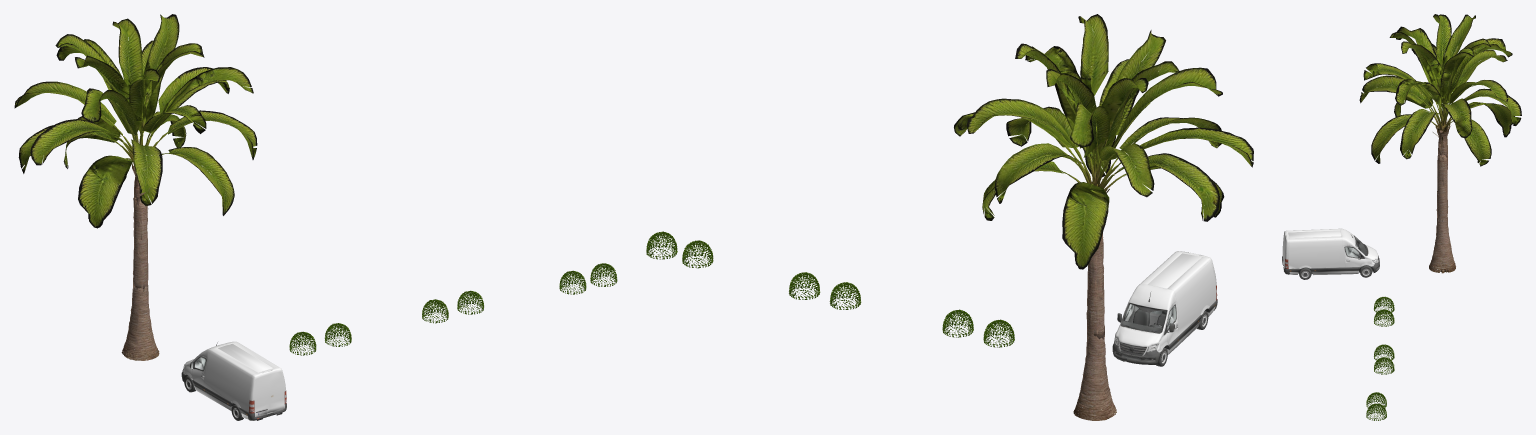
Rendered from building_refined_lod1.glb.
3 renders of one model, left to right at view 1: azimuth 30°, elevation 25°; view 2: azimuth 150°, elevation 25°; view 3: azimuth 270°, elevation 25°, orthographic. The views are drawn at different scales.
Visible parts, largest first — view 1: Preserved_tripo_node_40f33689-19e3-4f47-af31-3b40153ef03f__L, Preserved_tripo_node_2564325a-fb35-49d2-8a94-c82f8eb06e11__L; view 2: Preserved_tripo_node_40f33689-19e3-4f47-af31-3b40153ef03f__L, Preserved_tripo_node_2564325a-fb35-49d2-8a94-c82f8eb06e11__L, Preserved_tripo_node_ea4b5c3e-d929-4ee4-b03d-87afa3dcea7c.00 (×5), Preserved_tripo_node_ea4b5c3e-d929-4ee4-b03d-87afa3dcea7c__L; view 3: Preserved_tripo_node_40f33689-19e3-4f47-af31-3b40153ef03f__L, Preserved_tripo_node_2564325a-fb35-49d2-8a94-c82f8eb06e11__L, Preserved_tripo_node_ea4b5c3e-d929-4ee4-b03d-87afa3dcea7c.00 (×4), Preserved_tripo_node_ea4b5c3e-d929-4ee4-b03d-87afa3dcea7c__L.
Boxes of the visible parts, x1=… form: Preserved_tripo_node_40f33689-19e3-4f47-af31-3b40153ef03f__L: x1=14, y1=14, x2=257, y2=360; Preserved_tripo_node_2564325a-fb35-49d2-8a94-c82f8eb06e11__L: x1=181, y1=341, x2=286, y2=420; Preserved_tripo_node_40f33689-19e3-4f47-af31-3b40153ef03f__L: x1=954, y1=14, x2=1253, y2=420; Preserved_tripo_node_2564325a-fb35-49d2-8a94-c82f8eb06e11__L: x1=1112, y1=251, x2=1217, y2=366; Preserved_tripo_node_ea4b5c3e-d929-4ee4-b03d-87afa3dcea7c.00 (×5): x1=646, y1=231, x2=973, y2=337; Preserved_tripo_node_ea4b5c3e-d929-4ee4-b03d-87afa3dcea7c__L: x1=983, y1=319, x2=1014, y2=347; Preserved_tripo_node_40f33689-19e3-4f47-af31-3b40153ef03f__L: x1=1359, y1=14, x2=1521, y2=273; Preserved_tripo_node_2564325a-fb35-49d2-8a94-c82f8eb06e11__L: x1=1282, y1=228, x2=1379, y2=279; Preserved_tripo_node_ea4b5c3e-d929-4ee4-b03d-87afa3dcea7c.00 (×4): x1=1366, y1=309, x2=1394, y2=420; Preserved_tripo_node_ea4b5c3e-d929-4ee4-b03d-87afa3dcea7c__L: x1=1374, y1=296, x2=1394, y2=313.
Size of what is drawn, in the model's own units: 12.51 by 6.86 by 6.36.
3 materials, 3 textured.
